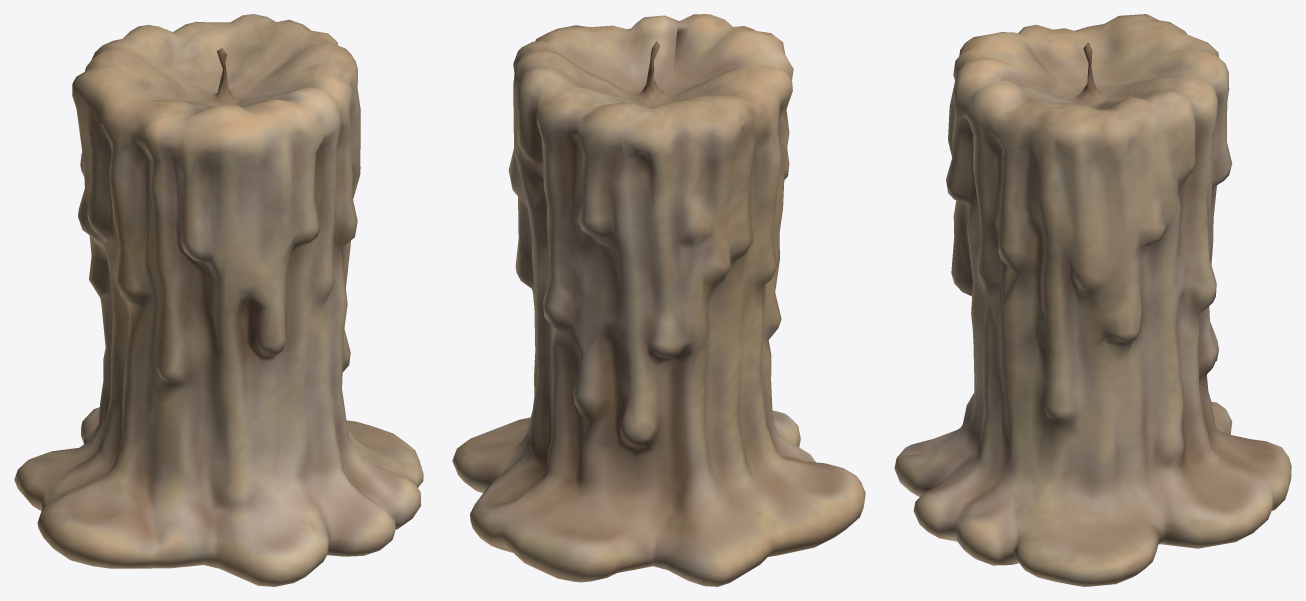
File: SM_Candle_low_003.fbx
3 renders of one model, left to right at view 1: azimuth 30°, elevation 25°; view 2: azimuth 150°, elevation 25°; view 3: azimuth 270°, elevation 25°, orthographic. The views are drawn at different scales.
Visible parts, largest first — view 1: SM_Candle_low_003_LOD0; view 2: SM_Candle_low_003_LOD0; view 3: SM_Candle_low_003_LOD0.
Part boxes in pixels (x1,y1,x2,y2): SM_Candle_low_003_LOD0: (14,14,423,586); SM_Candle_low_003_LOD0: (452,14,865,586); SM_Candle_low_003_LOD0: (894,14,1291,586).
Bounding box in the file's own units: 9.05 × 8.46 × 10.91.
